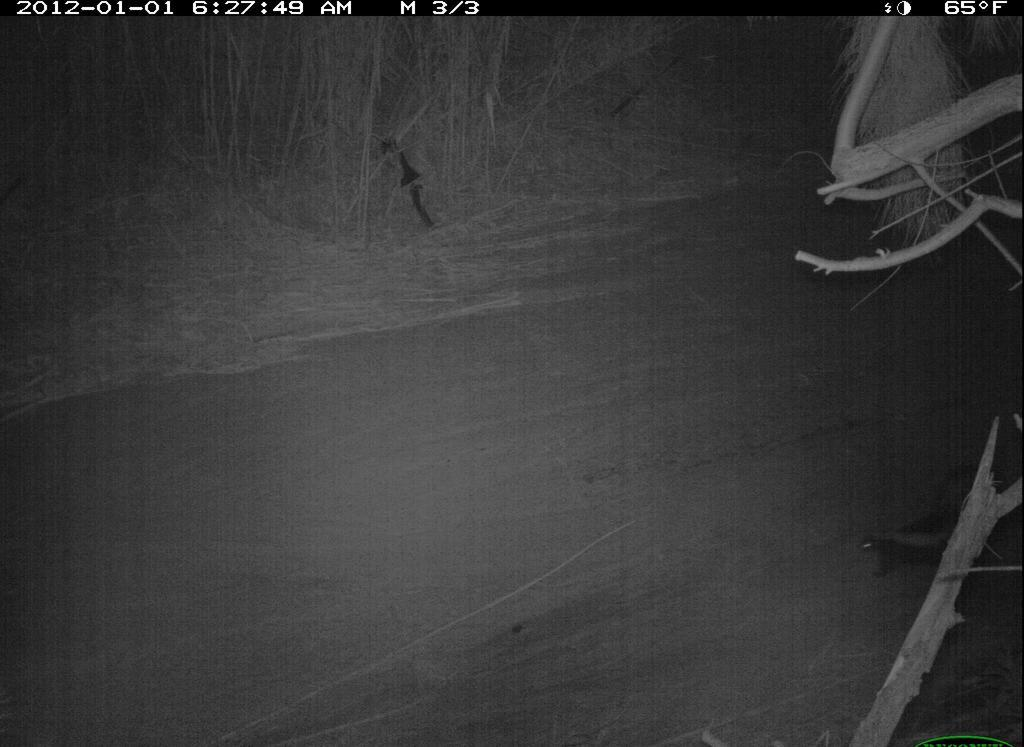skunk: (861, 449, 987, 577)
